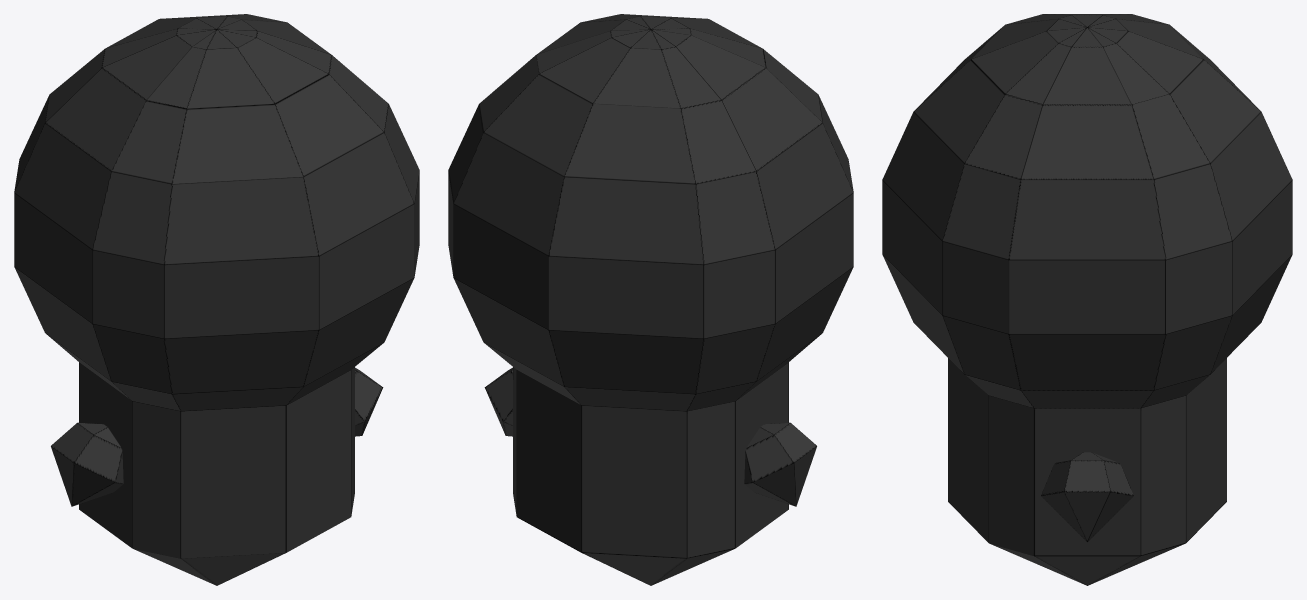
File: brother_bobby.obj
3 views of the same model, side by side, from view 1: azimuth 30°, elevation 25°; view 2: azimuth 150°, elevation 25°; view 3: azimuth 270°, elevation 25° (orthographic).
Parts seen in each view (by area): view 1: 锥体_锥体.001, 球体.001_球体.002; view 2: 锥体_锥体.001, 球体.001_球体.002; view 3: 锥体_锥体.001, 球体.001_球体.002.
Part boxes in pixels (x1,y1,x2,y2): 锥体_锥体.001: (14,14,419,585); 球体.001_球体.002: (51,367,383,506); 锥体_锥体.001: (448,14,853,585); 球体.001_球体.002: (484,367,816,506); 锥体_锥体.001: (882,14,1292,585); 球体.001_球体.002: (1041,452,1133,541).
Size of the model in its own units: 0.4078 by 0.6625 by 0.4414.
